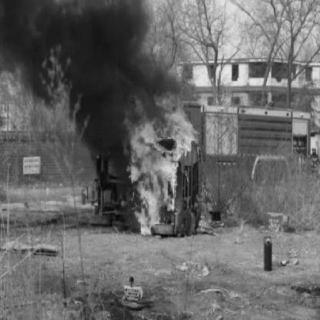Smoke: (10, 0, 68, 72)
other: (265, 204, 291, 234)
